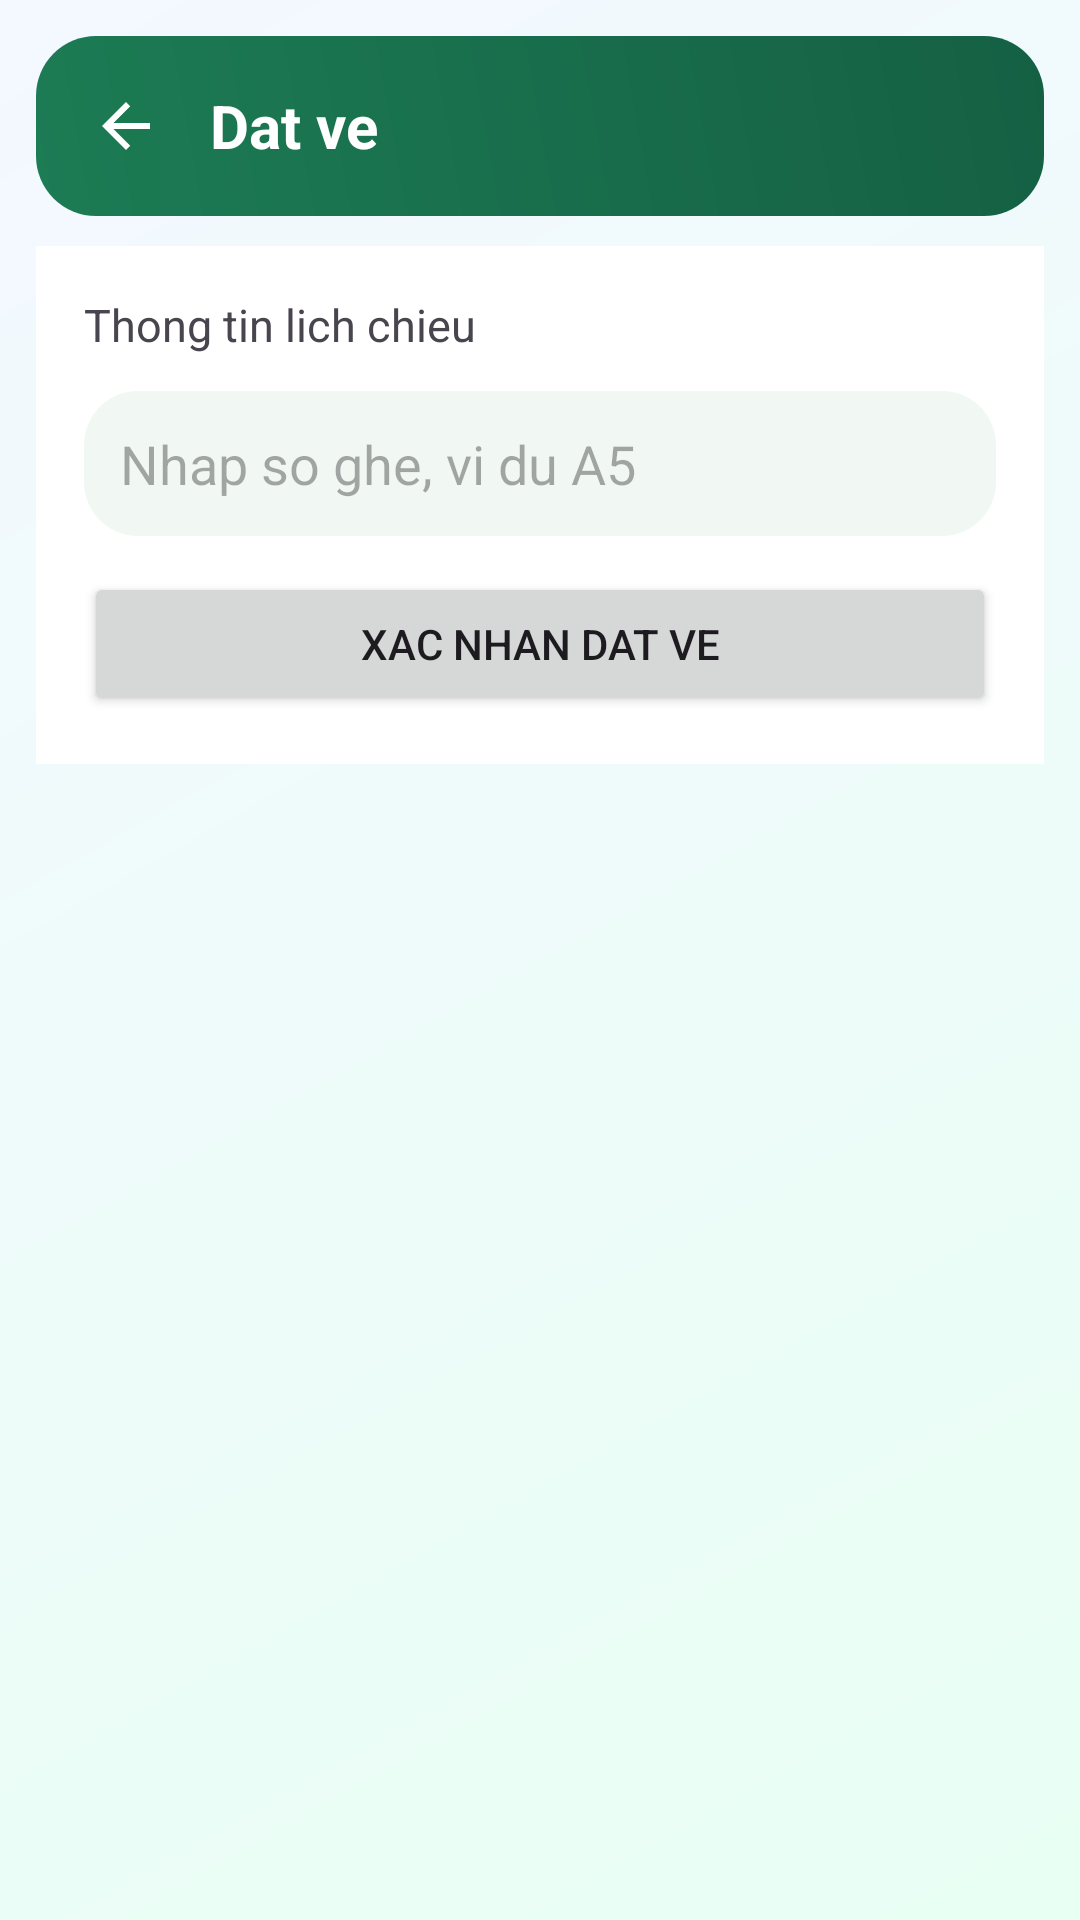

Icons on this 1080px x 1920px Android screen, each with the point to tap as [x,y]:
Back: [126,126]
